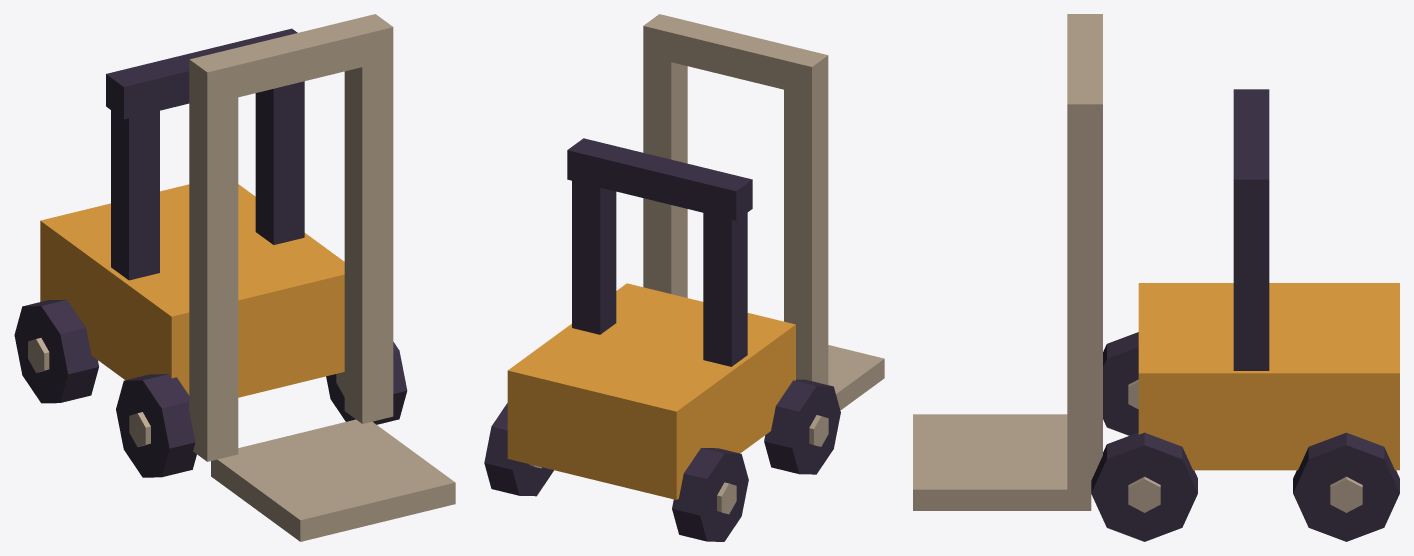
Rendered from forklift.glb.
The picture shows the model from 3 angles, left to right: view 1: azimuth 30°, elevation 25°; view 2: azimuth 150°, elevation 25°; view 3: azimuth 270°, elevation 25°; orthographic projection. The views are drawn at different scales.
Visible parts, largest first — view 1: factory-forklift; view 2: factory-forklift; view 3: factory-forklift.
Part boxes in pixels (x1,y1,x2,y2): factory-forklift: (14, 14, 455, 541); factory-forklift: (484, 14, 884, 541); factory-forklift: (913, 14, 1399, 541).
Size of the model in its own units: 0.48 by 0.79 by 0.82.
